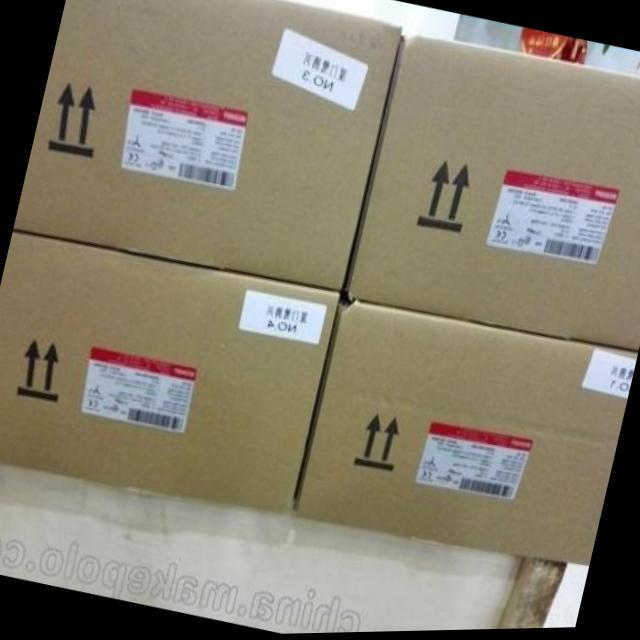box: (15, 0, 403, 294), (0, 229, 344, 513), (342, 35, 640, 352), (293, 300, 638, 567)
